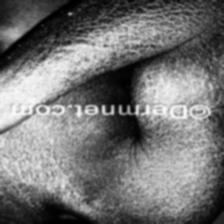Non-Cancerous Skin Condition: (27, 0, 222, 224)
